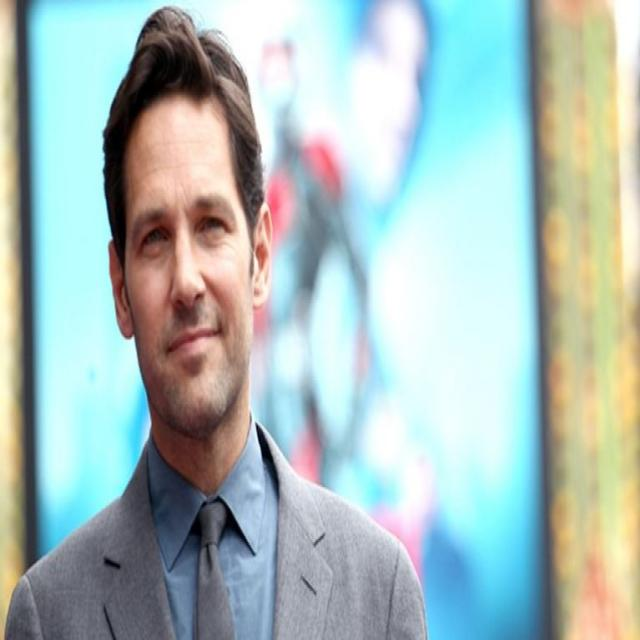human: (4, 1, 437, 640)
